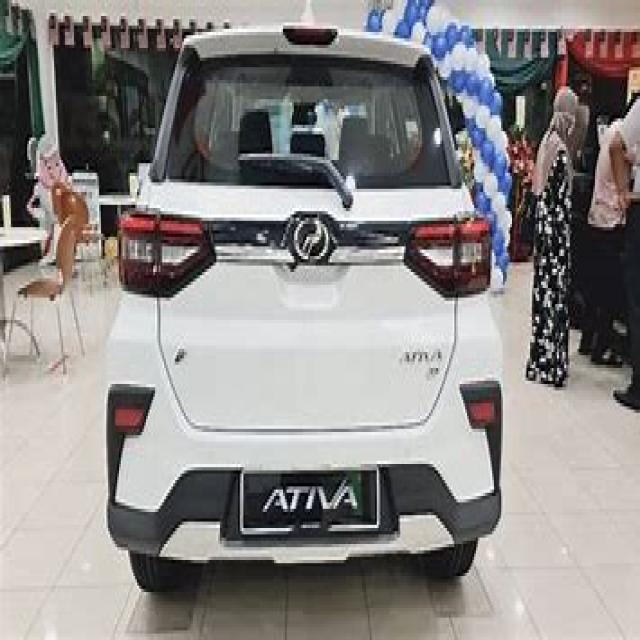PeroduaAtiva: (103, 19, 505, 589)
